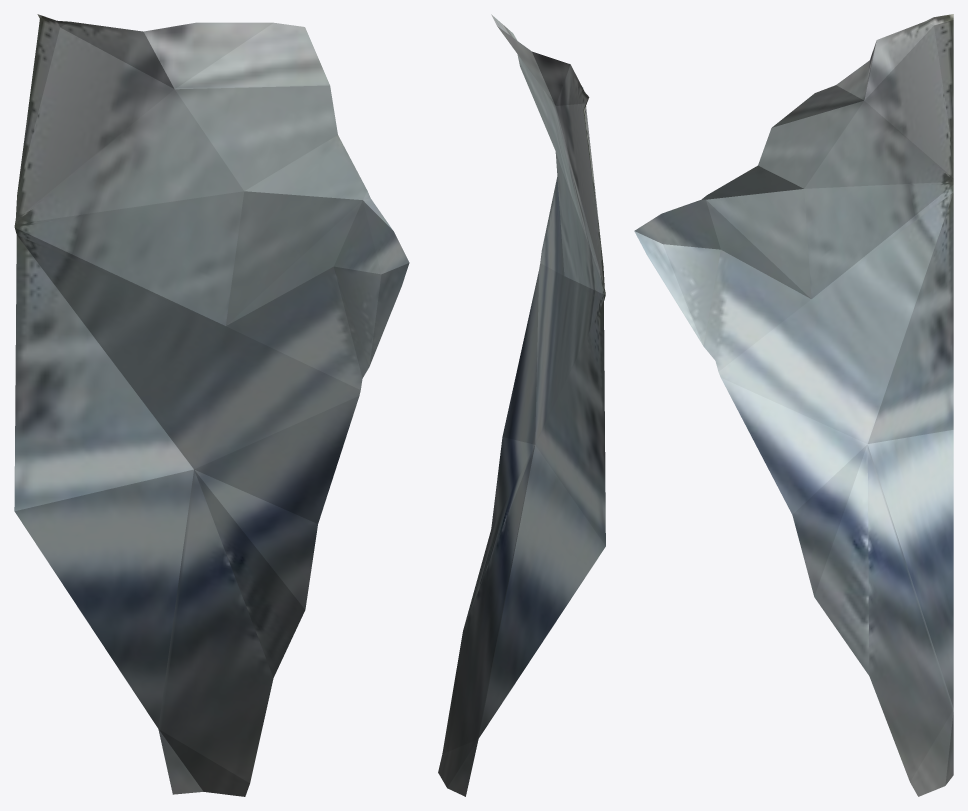
The picture shows the model from 3 angles, left to right: view 1: azimuth 30°, elevation 25°; view 2: azimuth 150°, elevation 25°; view 3: azimuth 270°, elevation 25°; orthographic projection. The views are drawn at different scales.
Size of the model in its own units: 0.453 by 1.67 by 0.6892.
1 material, 1 textured.
